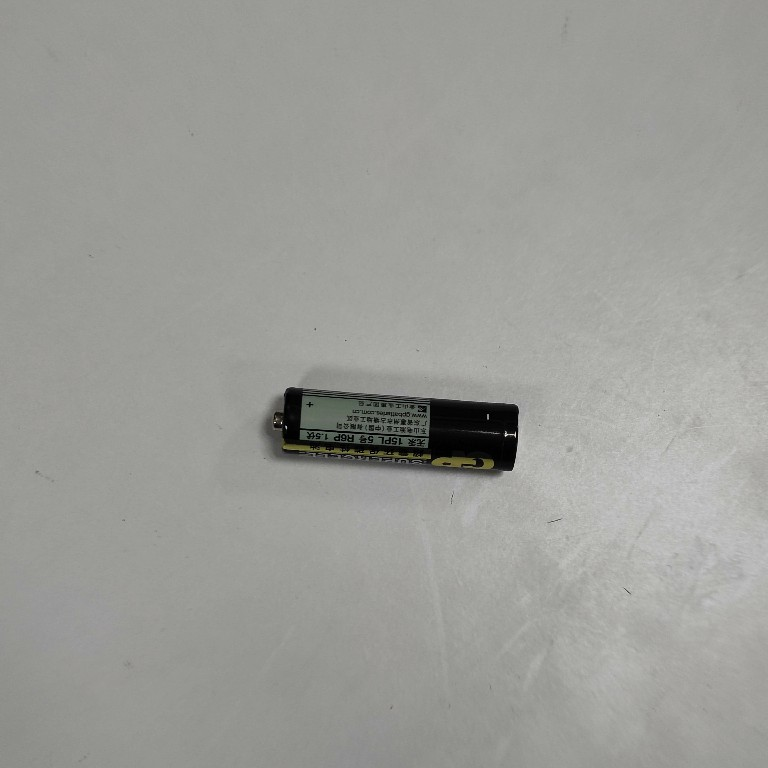charge: (270, 383, 524, 477)
